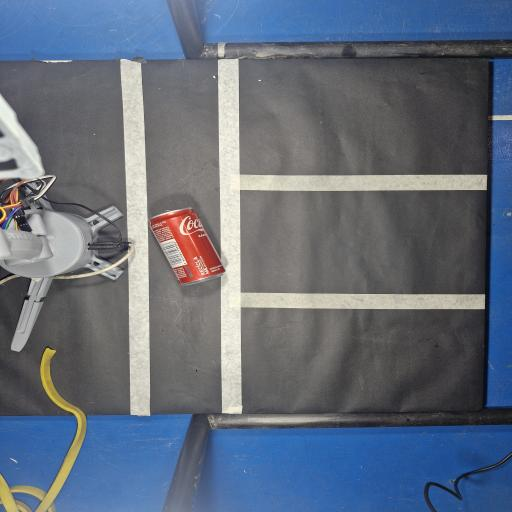lata: (150, 208, 225, 285)
